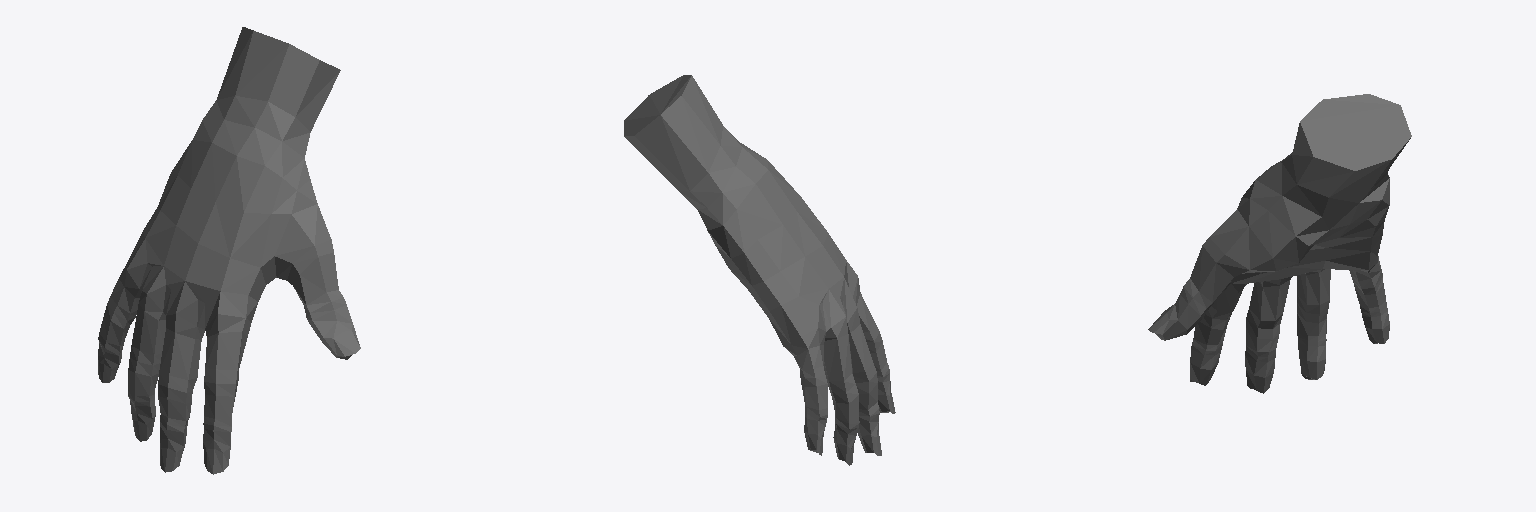
The model's file is Right Hand.obj.
3 renders of one model, left to right at view 1: azimuth 30°, elevation 25°; view 2: azimuth 150°, elevation 25°; view 3: azimuth 270°, elevation 25°, orthographic.
Visible parts, largest first — view 1: Plane005_Untitled; view 2: Plane005_Untitled; view 3: Plane005_Untitled.
Boxes of the visible parts, x1,y1,x2,y2 form: Plane005_Untitled: [98, 27, 360, 474]; Plane005_Untitled: [624, 75, 895, 465]; Plane005_Untitled: [1148, 94, 1411, 393].
Size of the model in its own units: 0.5812 by 0.9553 by 0.6237.